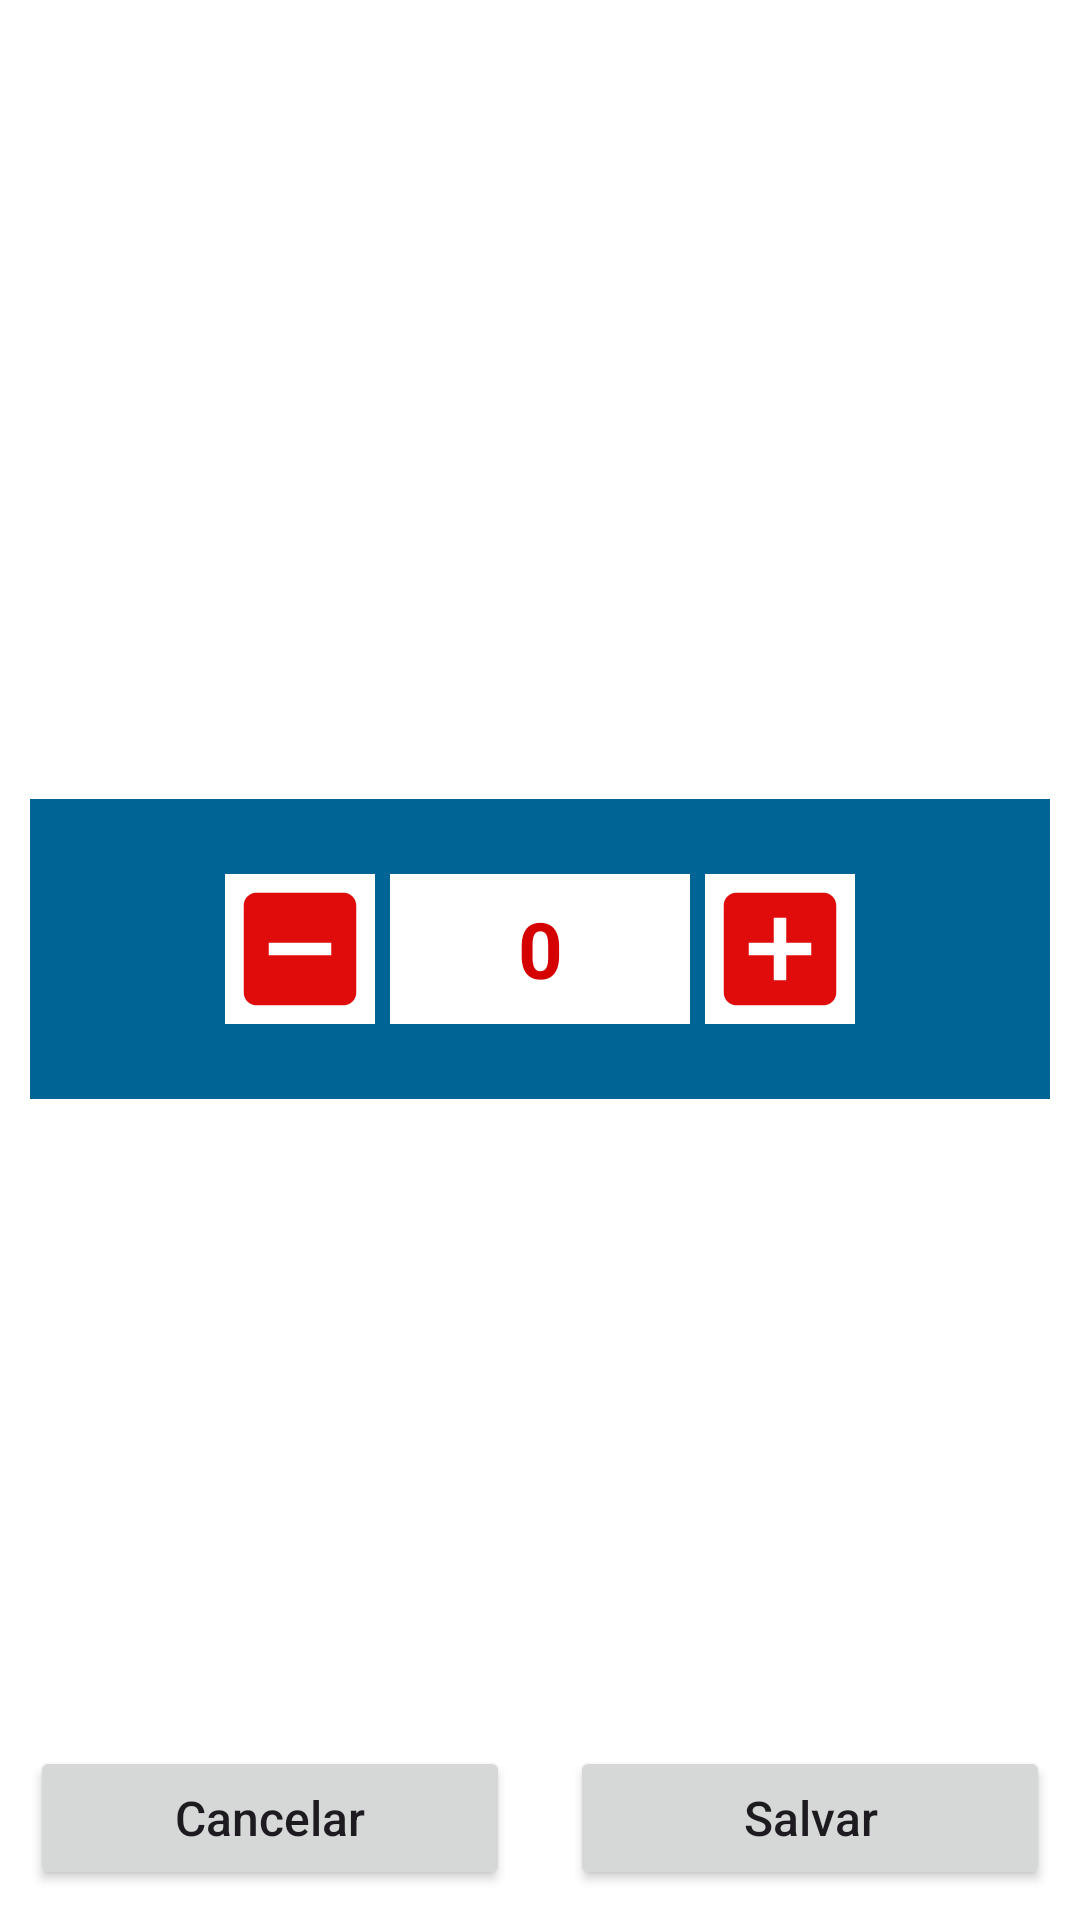

Where icons sit on this 1080w x 1920h app screen, as [x1,y1,x2,y2]:
minus: [225,874,375,1024]
plus: [705,874,855,1024]
